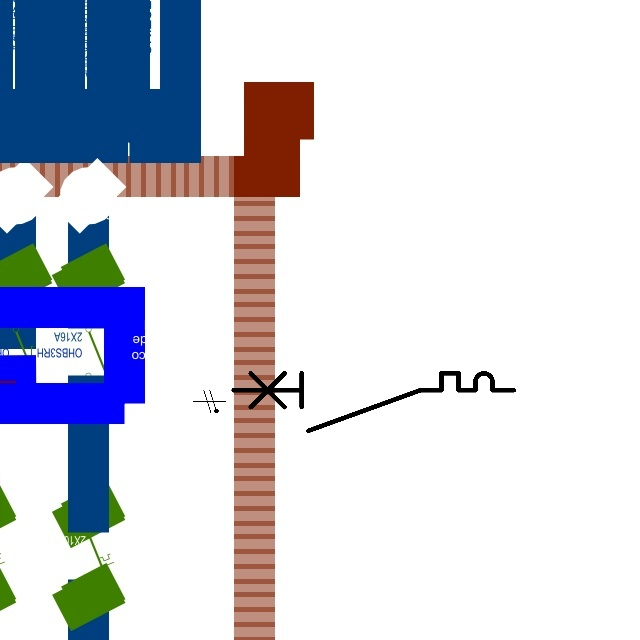interruptor_termomagnetico: (226, 366, 521, 438)
